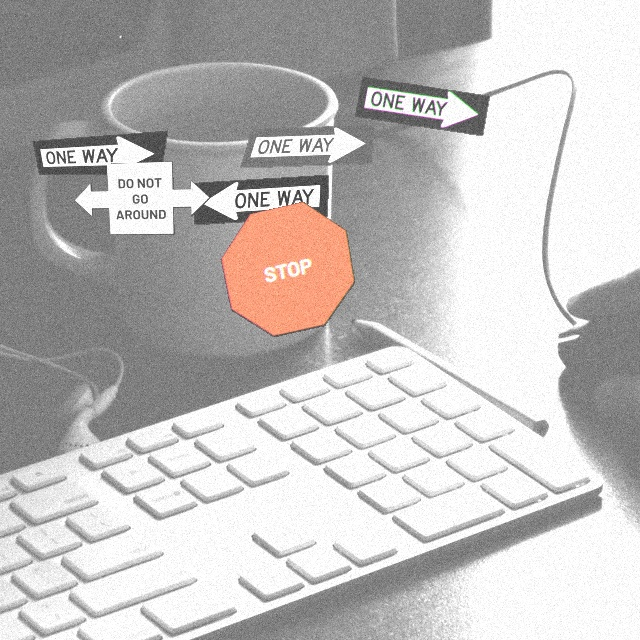DO_NOT_GO_AROUND: (74, 161, 210, 235)
ONE_WAY_ left: (193, 174, 329, 225)
ONE_WAY_ right: (354, 76, 490, 136), (32, 130, 168, 175), (239, 124, 374, 168)
STOP: (220, 201, 355, 337)
